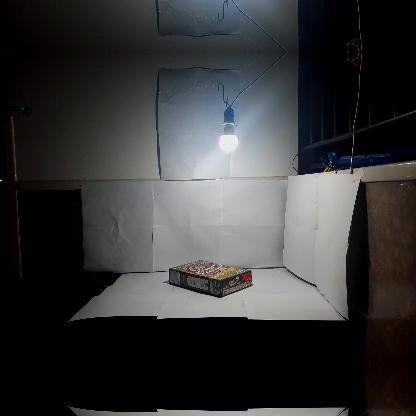Koko-Krunch: (168, 260, 252, 296)
